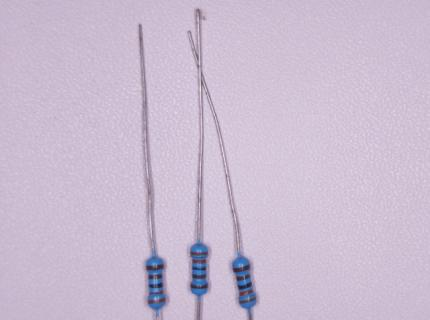Black band: (238, 282, 252, 290), (149, 283, 163, 288), (192, 266, 206, 270)
Brown band: (233, 265, 250, 273), (146, 264, 164, 270), (236, 274, 251, 281), (190, 284, 208, 289), (148, 274, 163, 279), (192, 274, 206, 279)
Orange band: (239, 297, 257, 304), (148, 298, 166, 304), (239, 289, 254, 296), (192, 259, 206, 264), (149, 291, 164, 295), (190, 252, 208, 255)
